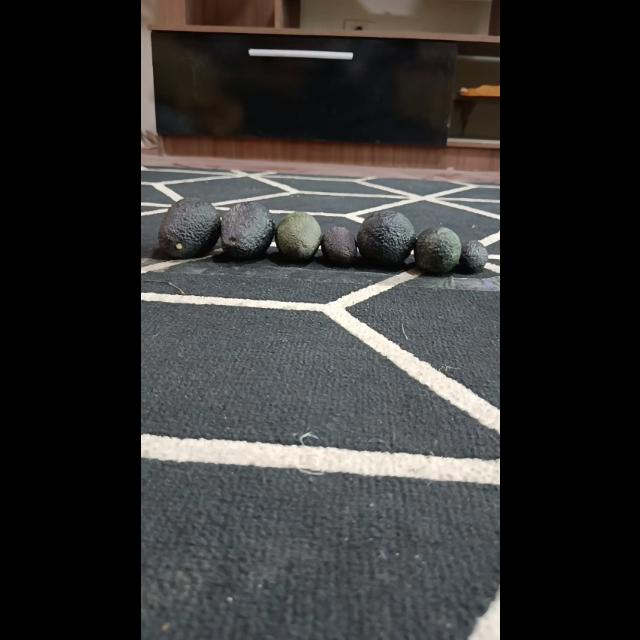Primera: (157, 197, 221, 259), (356, 210, 416, 266), (218, 202, 274, 260)
Segunda: (274, 211, 322, 261), (414, 226, 462, 274)
Tercera: (321, 226, 359, 266), (457, 240, 487, 274)
